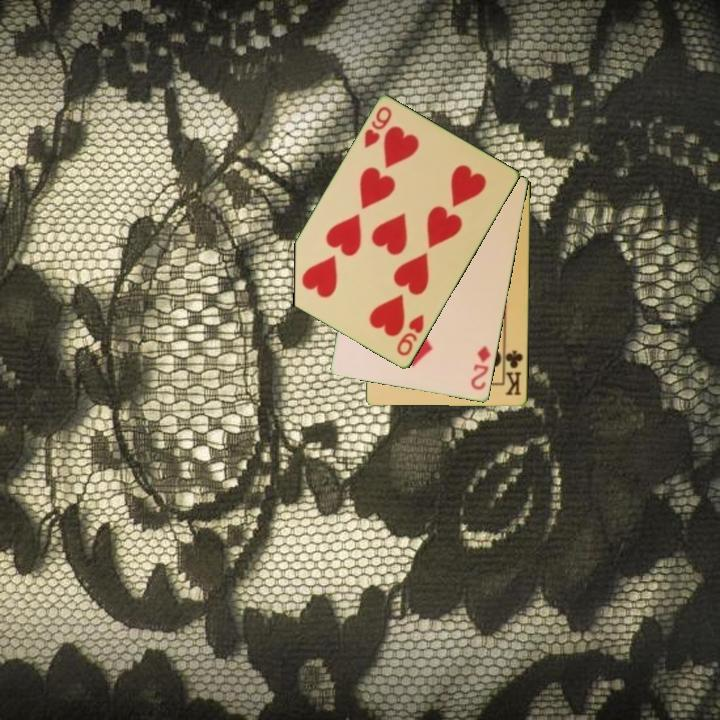2d: (467, 342, 493, 393)
9h: (393, 311, 427, 359), (361, 103, 395, 151)
Kc: (502, 344, 526, 399)
